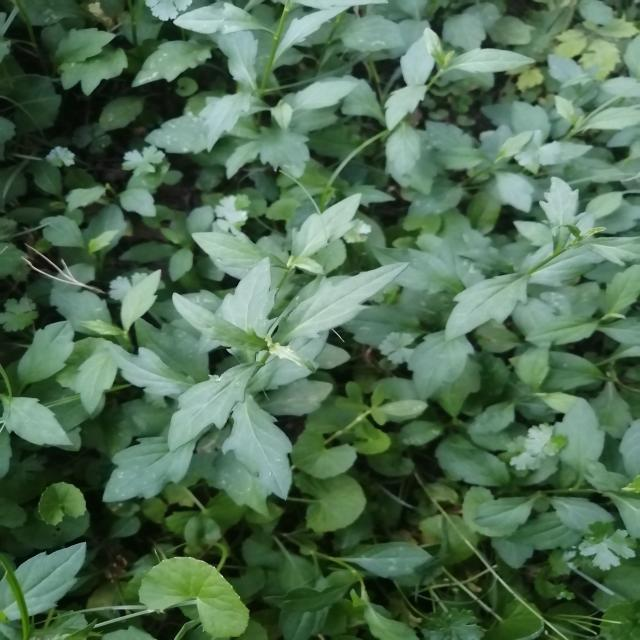Indian aster: (134, 199, 386, 473)
